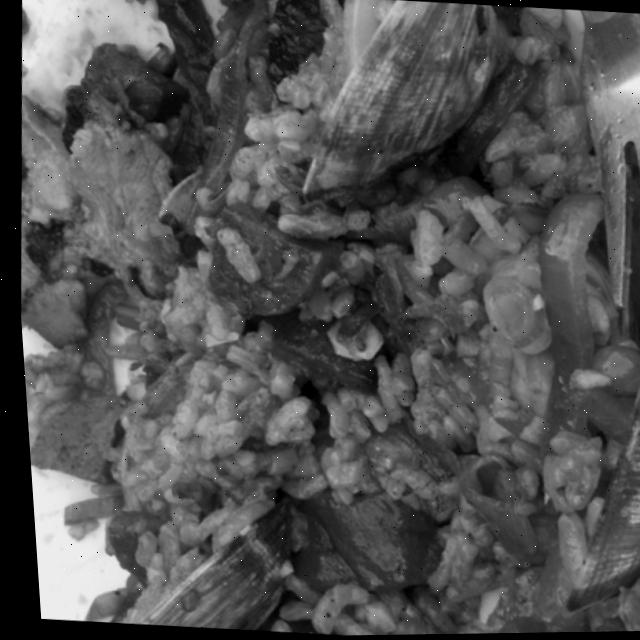面包点心: (3, 49, 640, 600)
